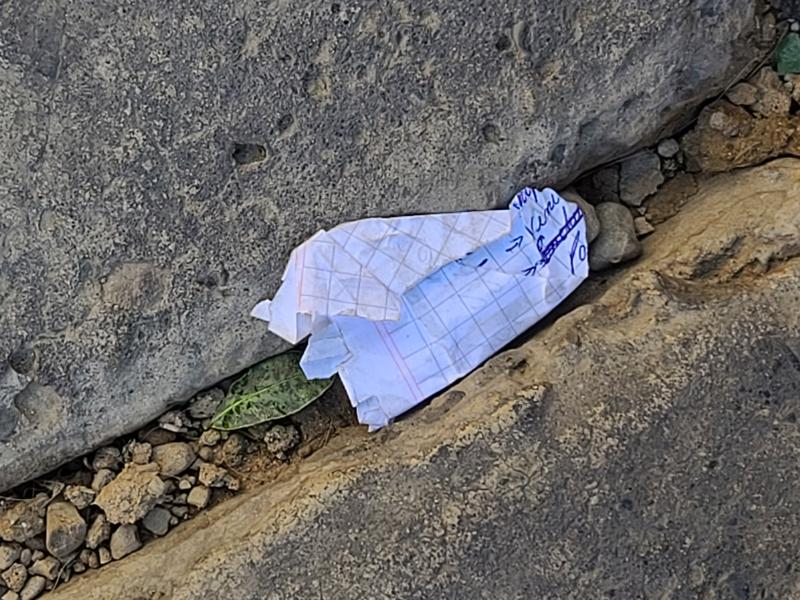papel: (258, 190, 593, 432)
